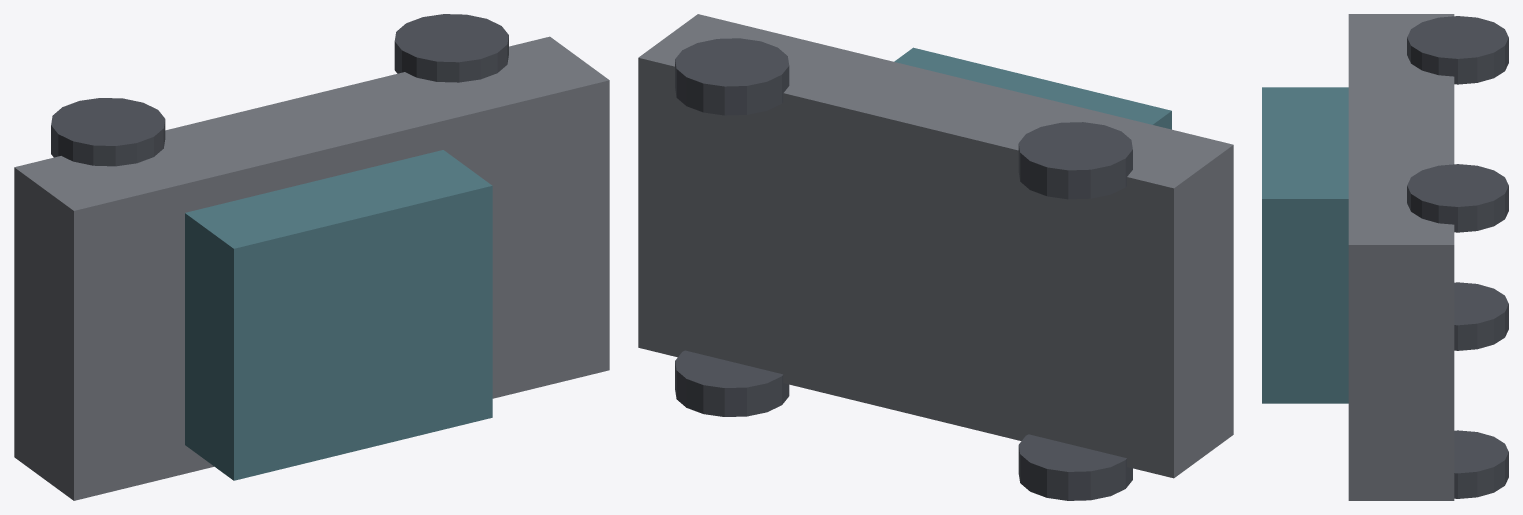
File: car_prop_v02.glb
3 renders of one model, left to right at view 1: azimuth 30°, elevation 25°; view 2: azimuth 150°, elevation 25°; view 3: azimuth 270°, elevation 25°, orthographic. The views are drawn at different scales.
Parts seen in each view (by area): view 1: box_0, box_1, cylinder_5, cylinder_3; view 2: box_0, cylinder_5, cylinder_3, cylinder_2, cylinder_4, box_1; view 3: box_0, box_1, cylinder_5, cylinder_3, cylinder_2, cylinder_4.
Part boxes in pixels (box(x1,y1,x2,y2)): box_0: box(14, 36, 609, 500); box_1: box(185, 150, 492, 480); cylinder_5: box(394, 14, 508, 82); cylinder_3: box(51, 98, 165, 166); box_0: box(638, 14, 1233, 478); cylinder_5: box(675, 38, 789, 115); cylinder_3: box(1018, 122, 1132, 199); cylinder_2: box(1018, 434, 1132, 500); cylinder_4: box(675, 350, 789, 416); box_1: box(894, 47, 1171, 129); box_0: box(1348, 14, 1454, 500); box_1: box(1262, 87, 1348, 403); cylinder_5: box(1407, 164, 1508, 232); cylinder_3: box(1407, 16, 1508, 84); cylinder_2: box(1454, 282, 1508, 350); cylinder_4: box(1454, 430, 1508, 498).
Size of the model in its own units: 2.9 by 1.71 by 1.31.
